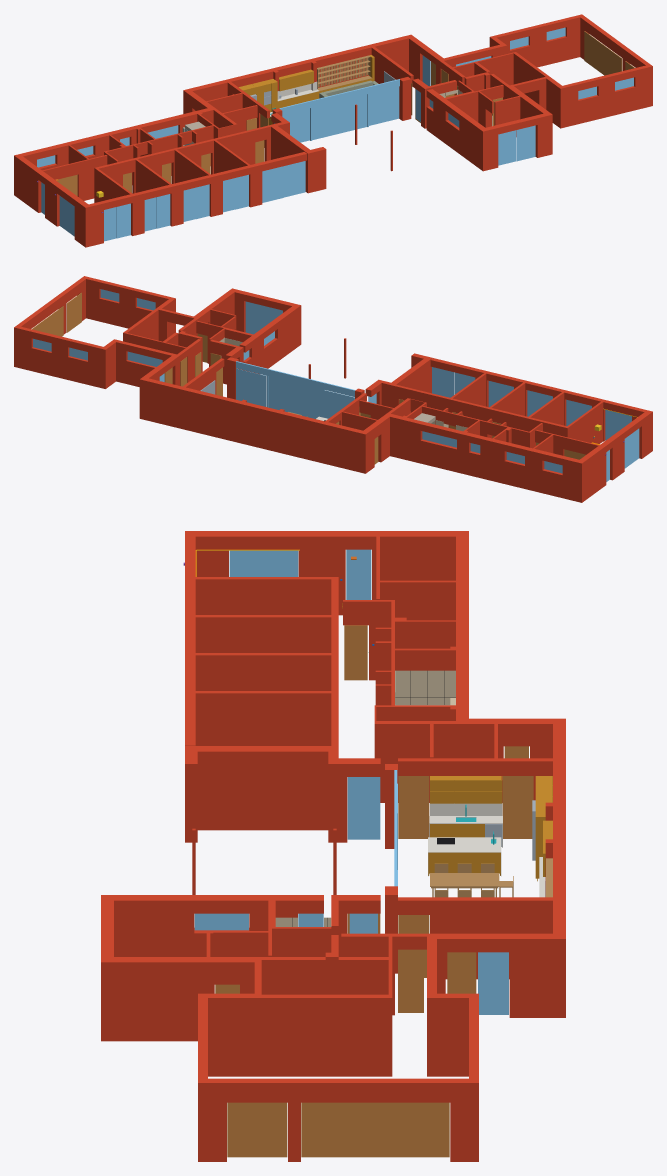
File: ground_floor.glb
3 renders of one model, top to bottom at view 1: azimuth 30°, elevation 25°; view 2: azimuth 150°, elevation 25°; view 3: azimuth 270°, elevation 25°, orthographic. The views are drawn at different scales.
Parts seen in each view (by area): view 1: masonry__W-002__, masonry__W-005__, masonry__W-029__, masonry__W-013__, masonry__W-030__, masonry__W-054__, masonry__W-026__, masonry__W-027__, glazing__WIN-OP28__, glazing__WIN-OP21__ (×2), masonry__W-001__, masonry__W-067__ (+38 smaller); view 2: masonry__W-029__, masonry__W-026__, masonry__W-027__, masonry__W-005__, masonry__W-030__, masonry__W-013__, masonry__W-002__, masonry__W-054__, glazing__WIN-OP28__, masonry__W-025__, masonry__W-022__, masonry__W-067__ (+31 smaller); view 3: masonry__W-049__, masonry__W-066__, masonry__W-067__, masonry__W-063__, masonry__W-030__, masonry__W-054__, door__D-OP50__, masonry__W-044__, masonry__W-060__, masonry__W-056__, masonry__W-031__, masonry__W-034__ (+40 smaller).
Part boxes in pixels (box(x1,y1,x2,y2)): masonry__W-002__: box(89, 152, 307, 245); masonry__W-005__: box(558, 65, 648, 128); masonry__W-029__: box(183, 34, 413, 113); masonry__W-013__: box(94, 125, 270, 202); masonry__W-030__: box(17, 156, 91, 247); masonry__W-054__: box(426, 89, 488, 171); masonry__W-026__: box(14, 107, 216, 197); masonry__W-027__: box(489, 15, 580, 67); glazing__WIN-OP28__: box(312, 94, 367, 140); glazing__WIN-OP21__ (×2): box(262, 161, 305, 202); masonry__W-001__: box(485, 113, 546, 169); masonry__W-067__: box(578, 14, 652, 106); masonry__W-029__: box(139, 377, 368, 473); masonry__W-026__: box(385, 413, 585, 502); masonry__W-027__: box(18, 326, 107, 388); masonry__W-005__: box(86, 277, 175, 333); masonry__W-030__: box(580, 410, 652, 500); masonry__W-013__: box(394, 384, 569, 437); masonry__W-002__: box(430, 358, 646, 441); masonry__W-054__: box(239, 304, 301, 374); glazing__WIN-OP28__: box(268, 376, 322, 418); masonry__W-025__: box(112, 339, 173, 386); masonry__W-022__: box(422, 406, 530, 447); masonry__W-067__: box(14, 276, 88, 367); masonry__W-049__: box(185, 746, 338, 830); masonry__W-066__: box(261, 994, 392, 1076); masonry__W-067__: box(198, 1078, 478, 1161); masonry__W-063__: box(101, 957, 261, 1041); masonry__W-030__: box(185, 531, 455, 615); masonry__W-054__: box(101, 895, 323, 956); door__D-OP50__: box(301, 1102, 449, 1157); masonry__W-044__: box(195, 691, 331, 745); masonry__W-060__: box(427, 933, 552, 1017); masonry__W-056__: box(398, 897, 552, 979); masonry__W-031__: box(195, 577, 331, 614); masonry__W-034__: box(195, 615, 331, 652).
Bounding box in the file's own units: 45.1 × 3.05 × 16.05.
